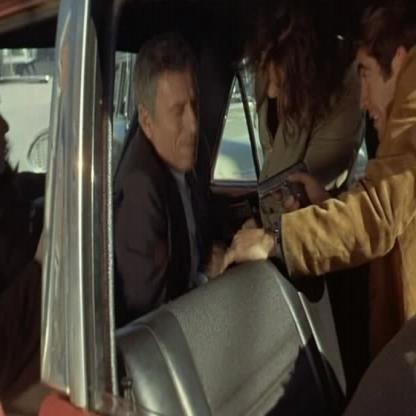gun: (248, 153, 323, 221)
